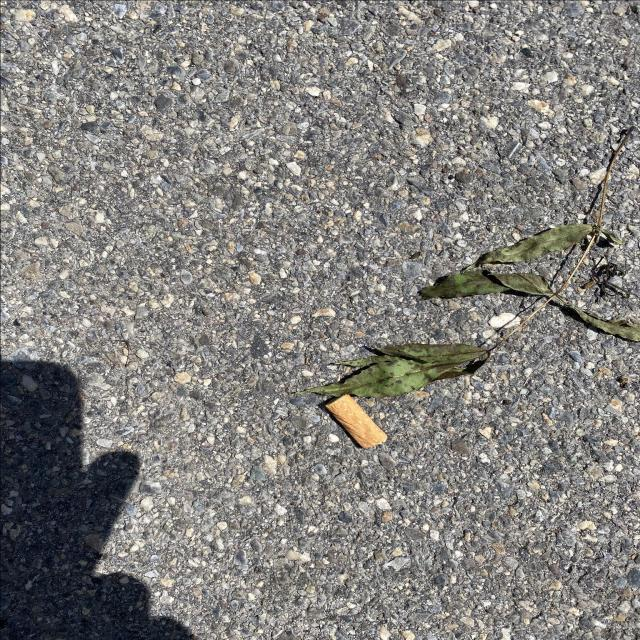other waste: (322, 392, 388, 449)
